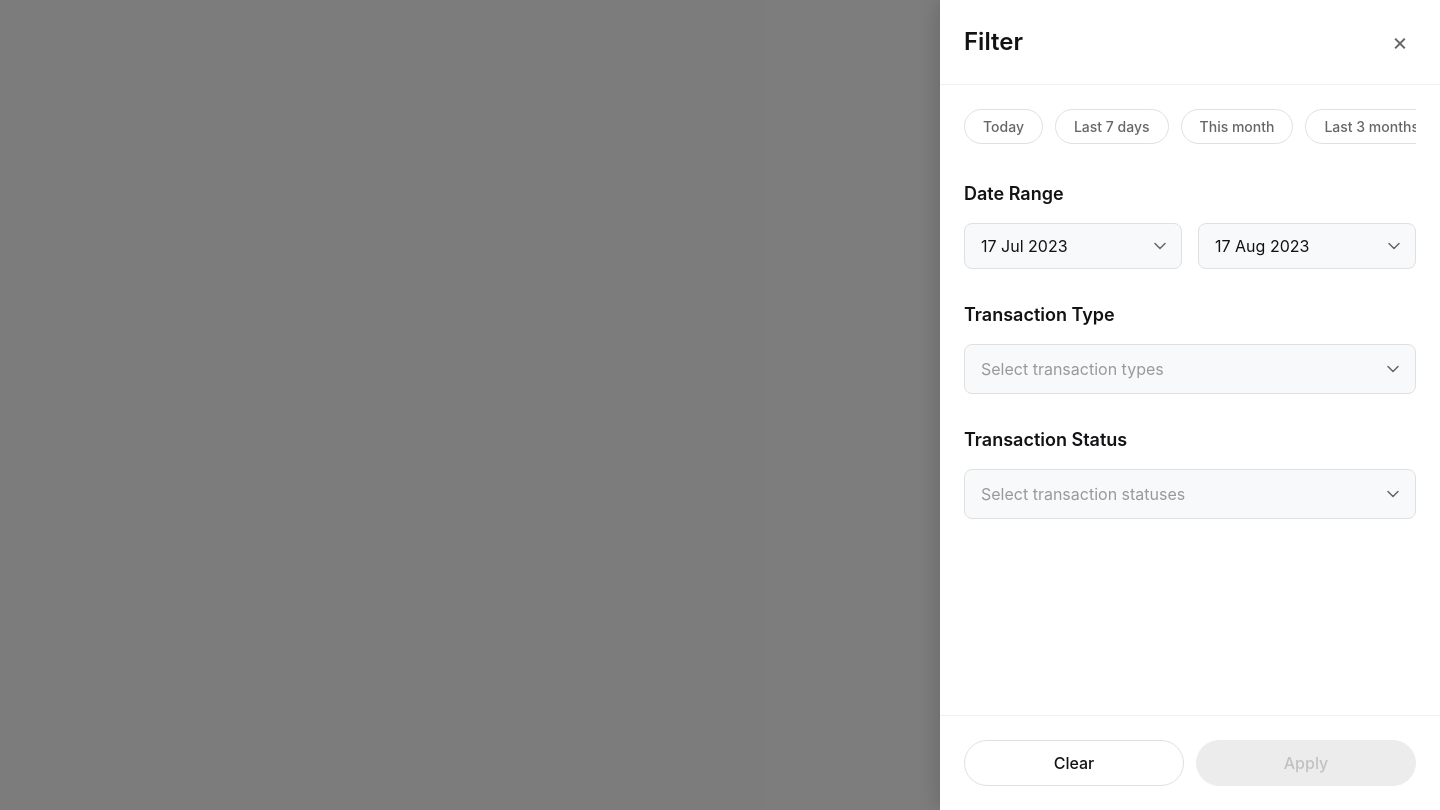
FilterSidebar › Transaction status filtering › should open transaction status dropdown when clicked
This screenshot has width=1440, height=810.
Click the text "Select transaction statuses": point(1083, 494) [981,484,1185,504]
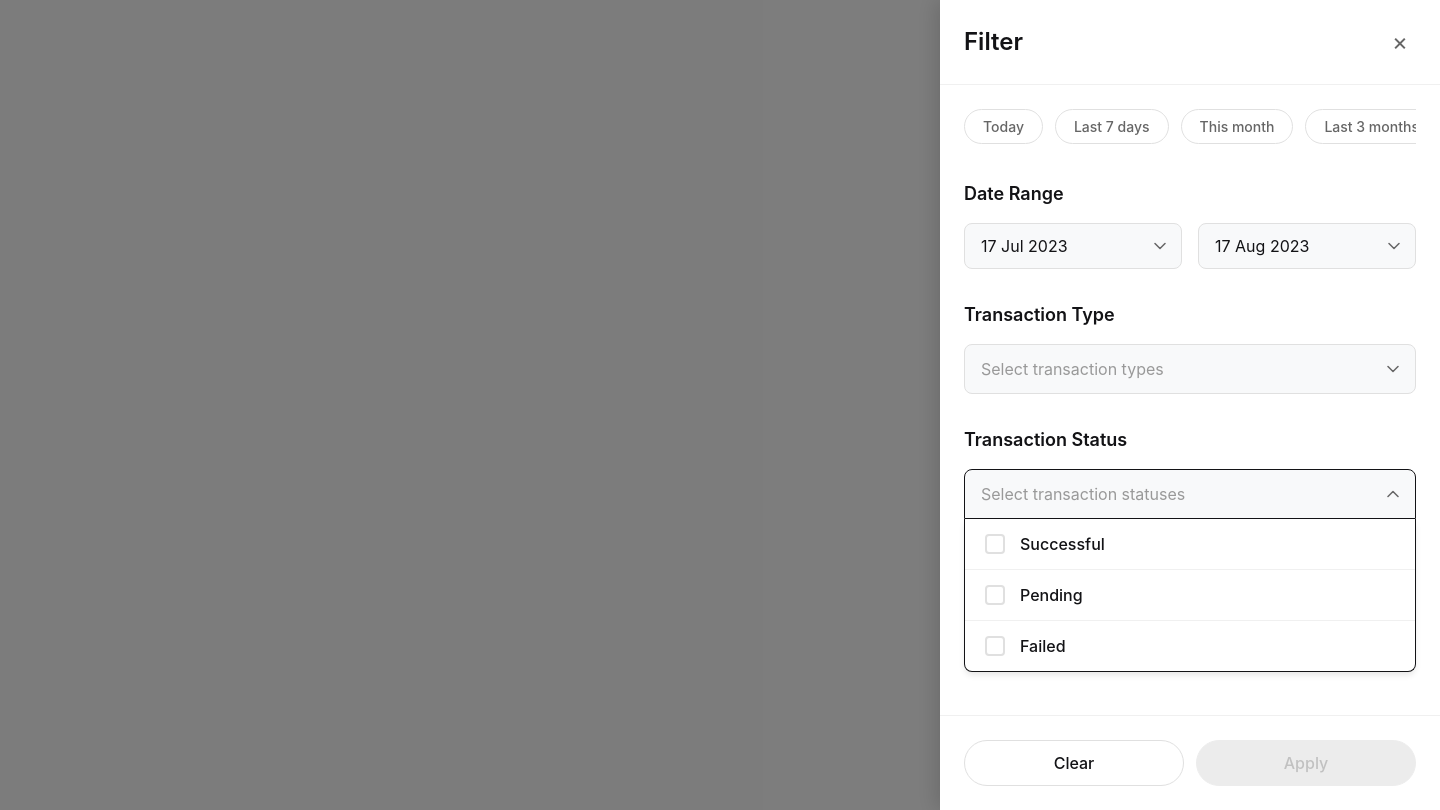
Now the text "Successful" is shown, box [1020,532,1105,556]
Now the text "Pending" is shown, box [1020,583,1083,607]
Now the text "Failed" is shown, box [1020,634,1066,658]
